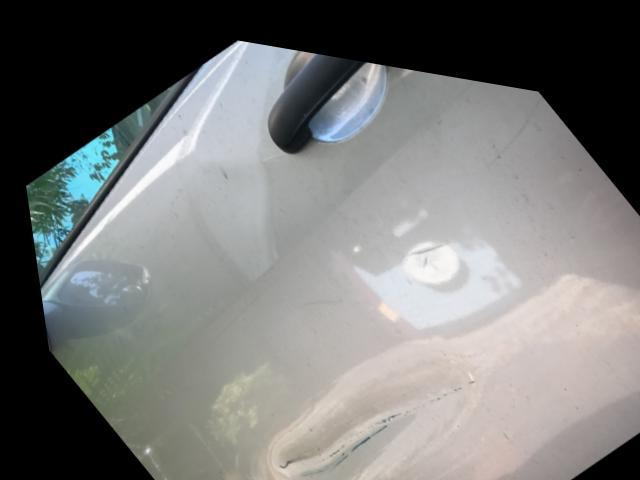dent: (263, 336, 470, 480), (177, 146, 268, 282)
